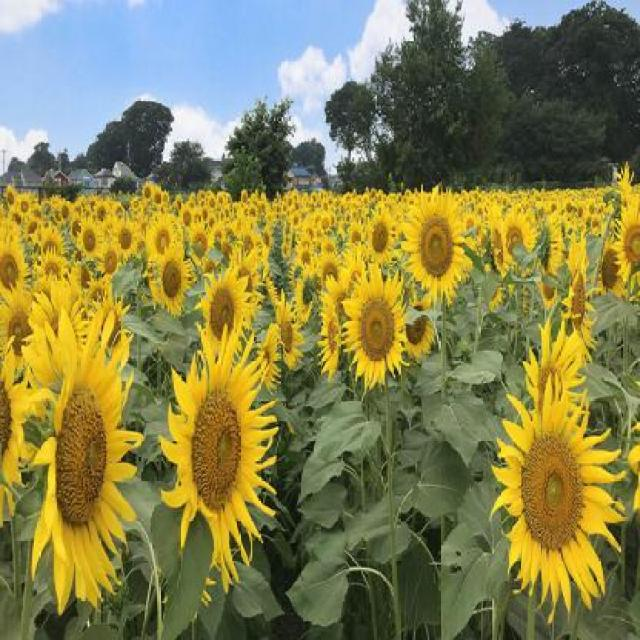sunflower: (483, 350, 626, 628), (36, 336, 156, 606), (159, 324, 283, 571), (342, 256, 412, 402), (404, 186, 474, 325), (196, 270, 258, 370), (146, 236, 201, 326)
